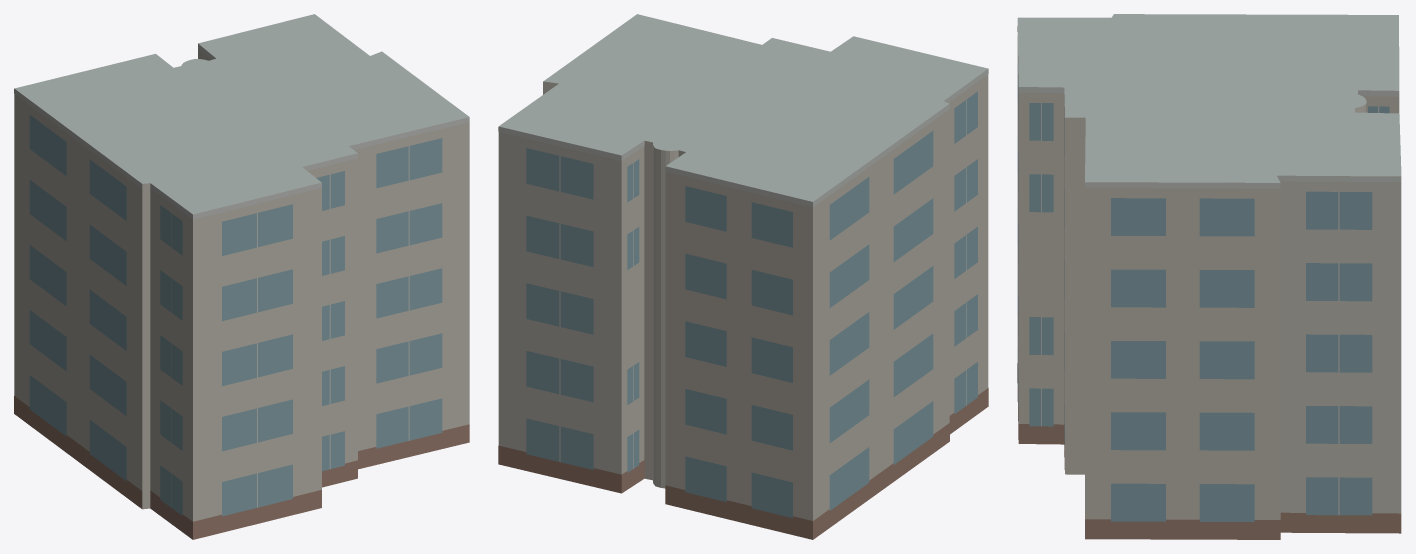
Rendered from survey-upis-32819883.glb.
3 views of the same model, side by side, from view 1: azimuth 30°, elevation 25°; view 2: azimuth 150°, elevation 25°; view 3: azimuth 270°, elevation 25° (orthographic). The views are drawn at different scales.
Parts seen in each view (by area): view 1: survey-upis-32819883.tmp; view 2: survey-upis-32819883.tmp; view 3: survey-upis-32819883.tmp.
Part boxes in pixels (<box>): survey-upis-32819883.tmp: <box>14,14,469,539</box>; survey-upis-32819883.tmp: <box>498,14,988,539</box>; survey-upis-32819883.tmp: <box>1017,14,1401,539</box>.
Size of the model in its own units: 15.49 by 15.25 by 14.88.
